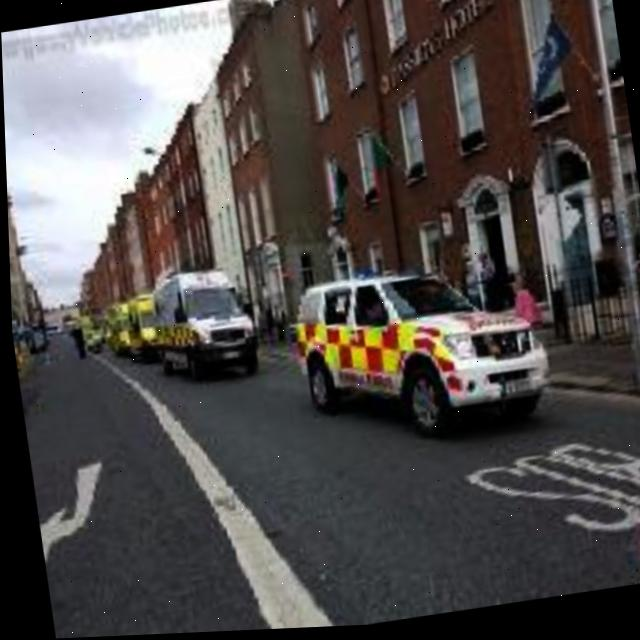emergency: (282, 246, 555, 455), (140, 264, 267, 399)
